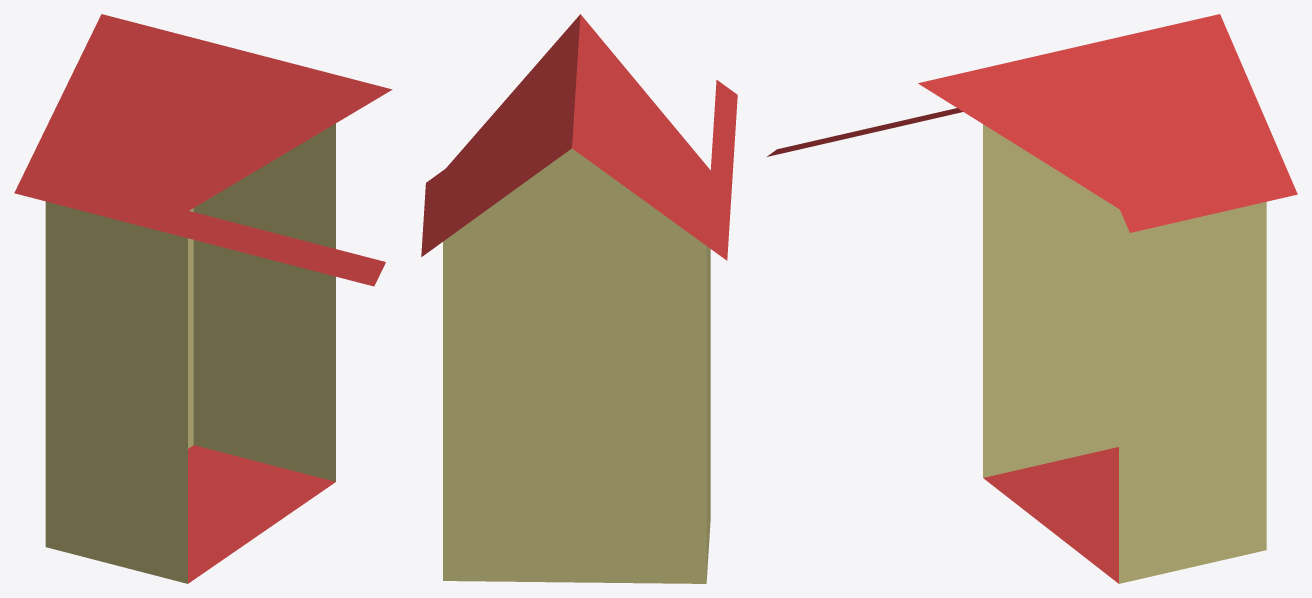
The picture shows the model from 3 angles, left to right: view 1: azimuth 30°, elevation 25°; view 2: azimuth 150°, elevation 25°; view 3: azimuth 270°, elevation 25°; orthographic projection. The views are drawn at different scales.
Bounding box in the file's own units: 8.31 × 11.56 × 11.5.
